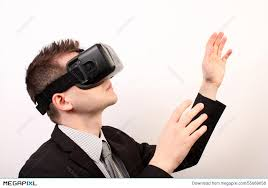oculus: (65, 43, 125, 87)
